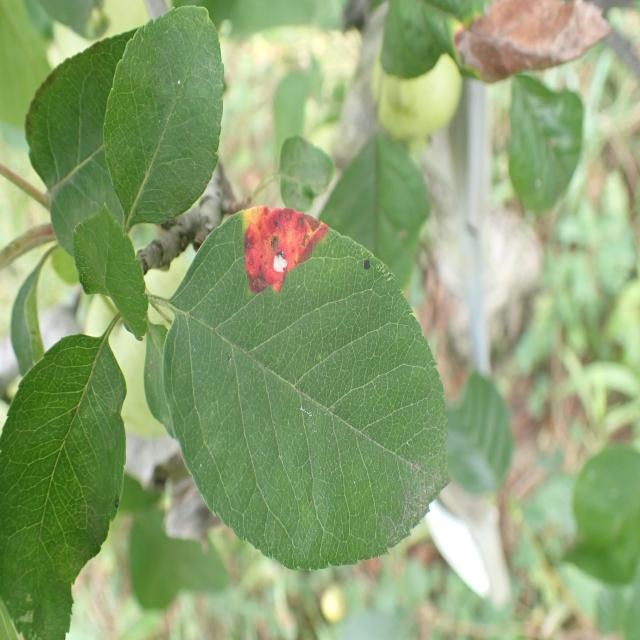Rust: (223, 175, 350, 311)
